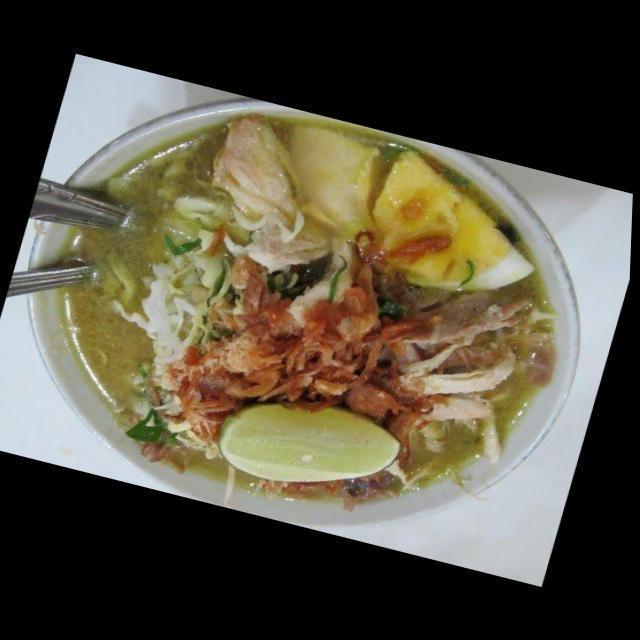Soto: (56, 110, 561, 509)
